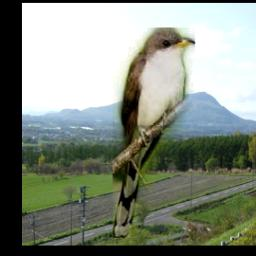Cuckoo: (114, 27, 196, 238)
